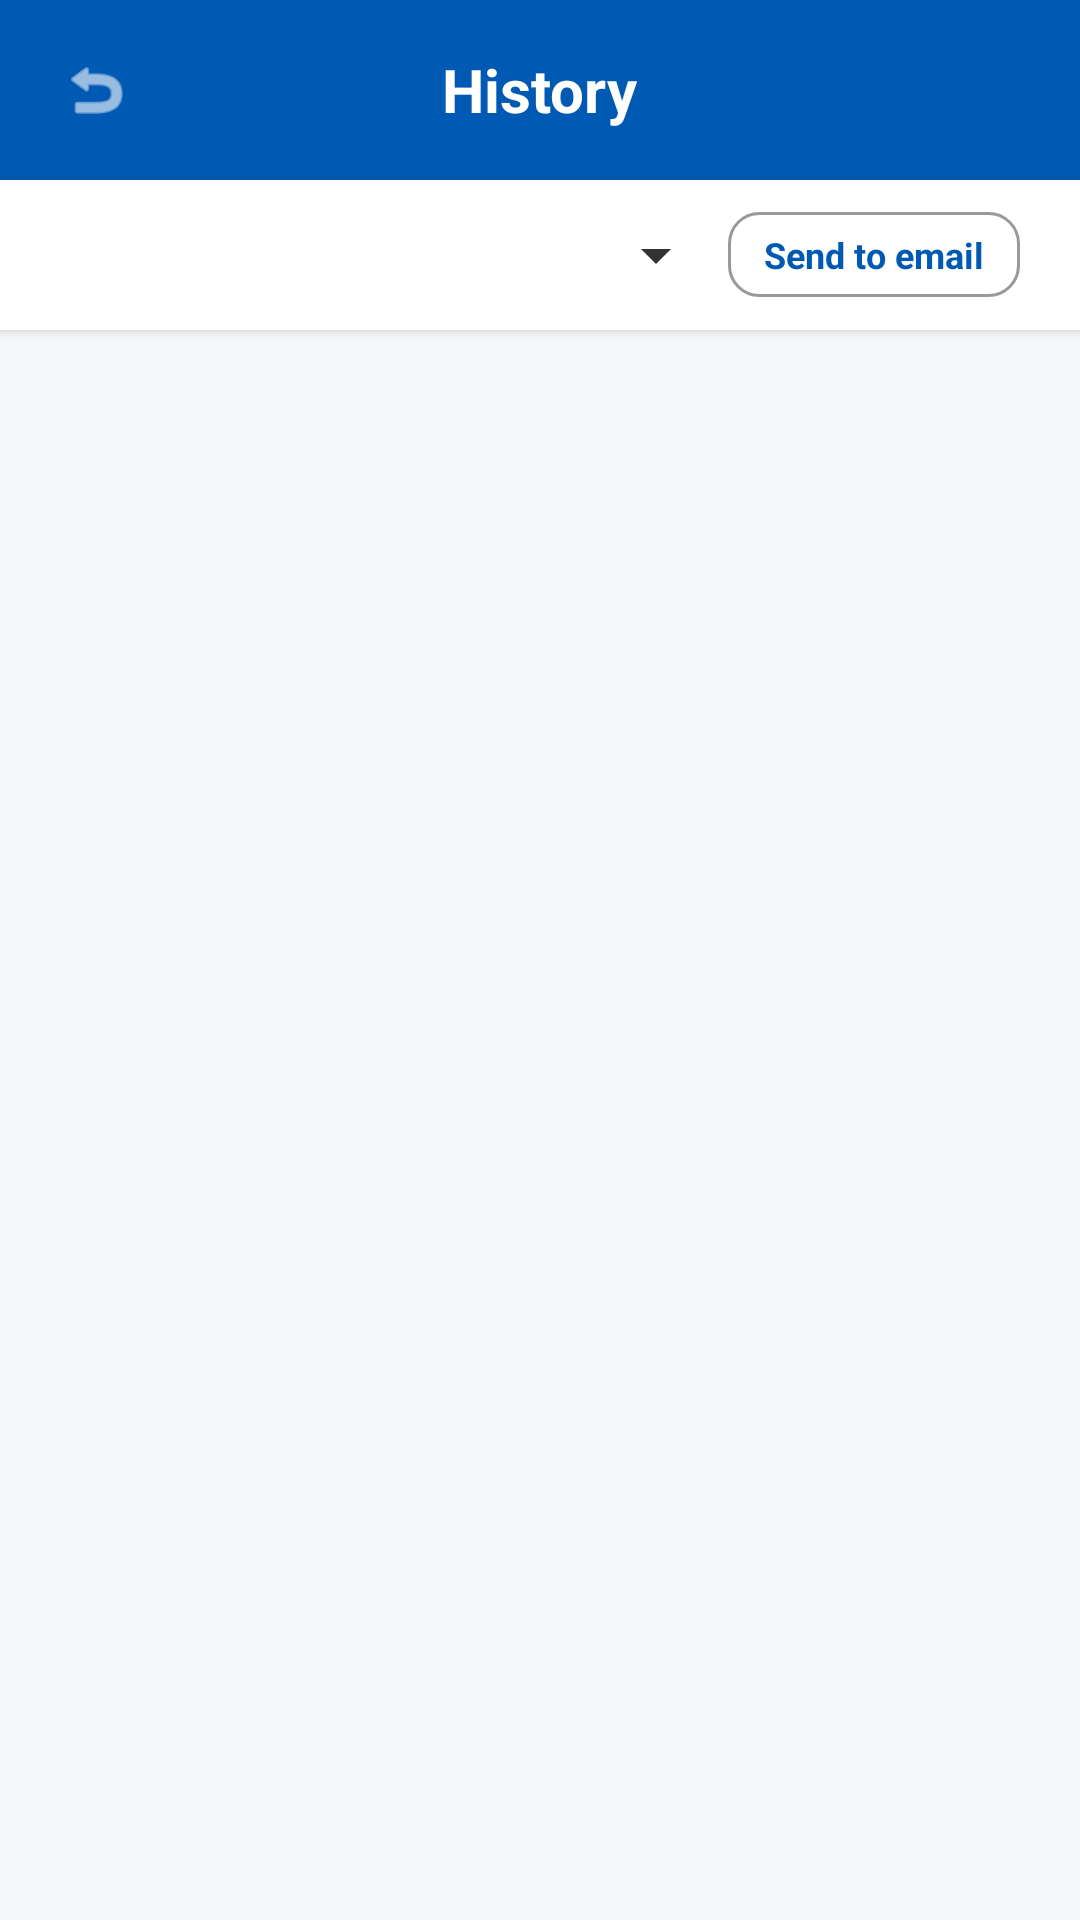

Screen size 1080x1920. Icon name, then its box in pixels as (x1, y1, x2, y2):
revert: (71, 67, 123, 114)
